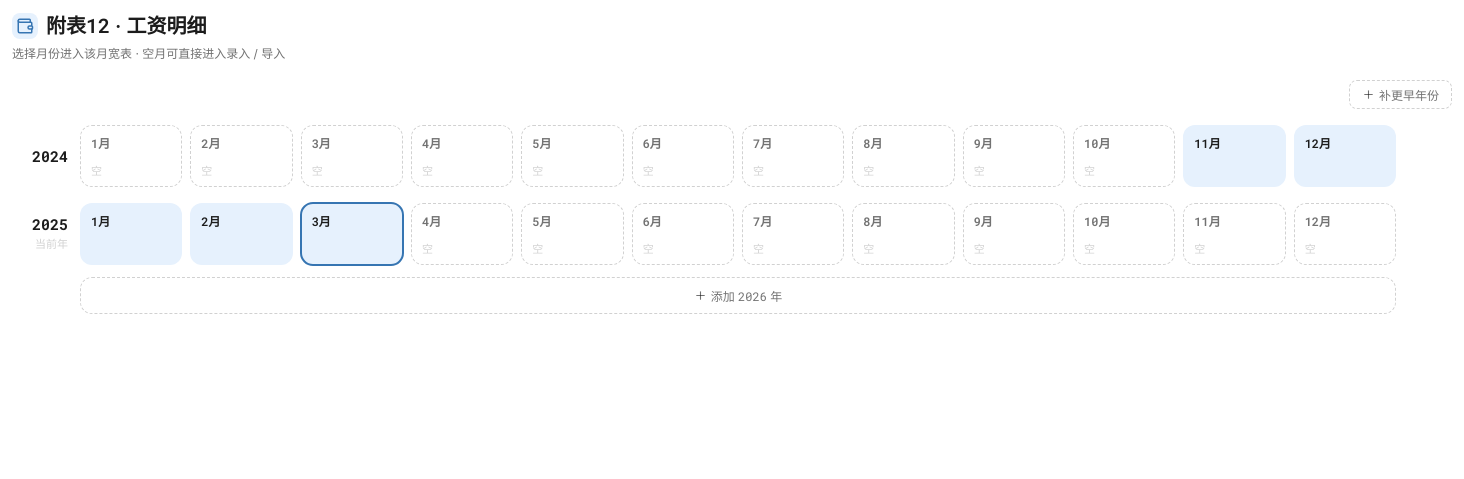
Test: 附表12 · 一层选期门 › 宽表「换期」回矩阵
The width and height of the screenshot is (1464, 479).
Check: the element with class "bmm-yrow" that starts with "当前年" is shown, box [12, 203, 1452, 265]
Click the button with class "bmm-card" showing "2月".
click(241, 234)  # box [190, 203, 293, 265]
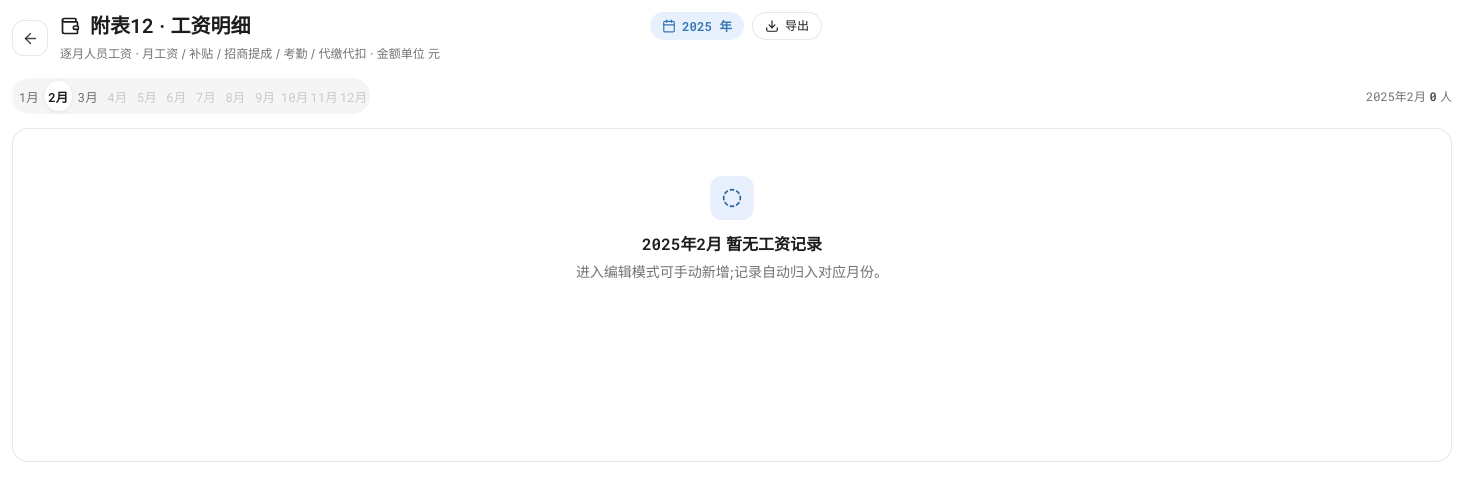
Click the button with class "lc-back".
click(30, 38)  # box [12, 20, 48, 56]
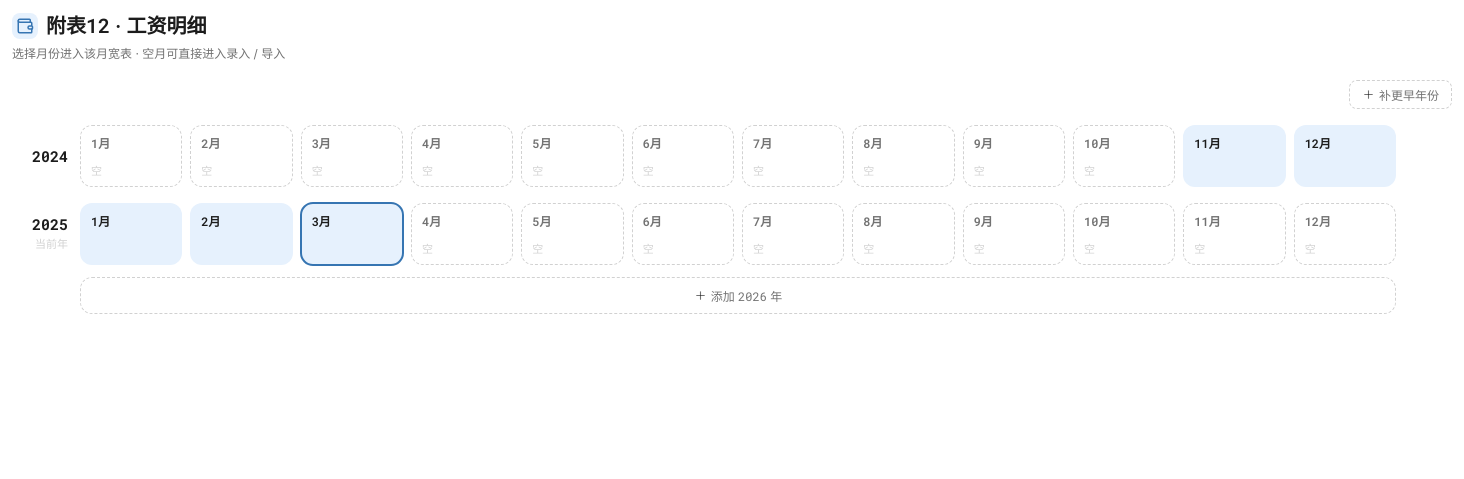
Check: the number of buttons with class "bmm-card" is 24
